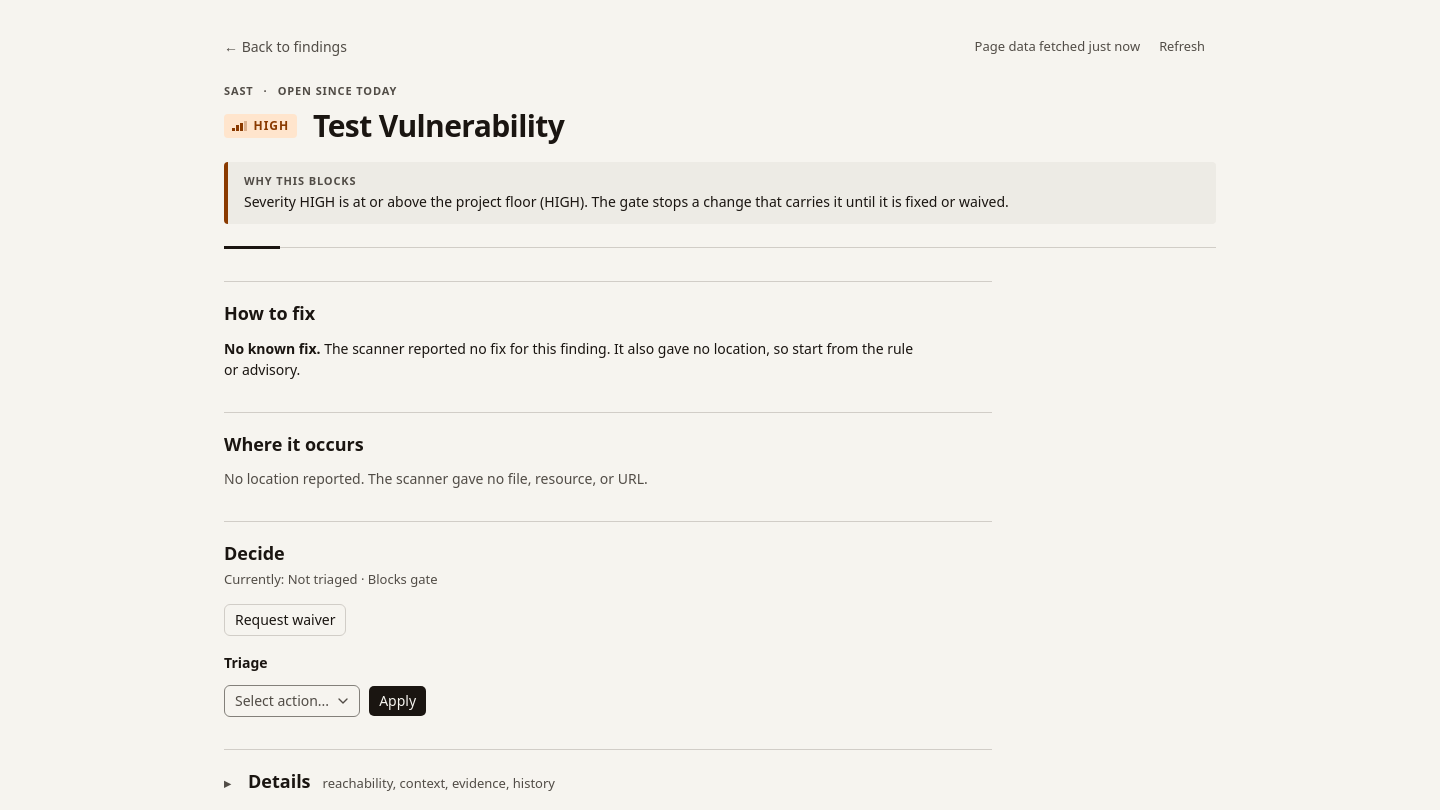
Scenario: FindingDetail rows without a value › drops the date rows instead of printing None
Expected: the heading "Test Vulnerability" is shown, x1=313 y1=109 x2=564 y2=142
Click the button "▸ Details reachability, context, evidence, history". click: (279, 781)
box: x1=224 y1=766 x2=992 y2=798
(page scrolled)
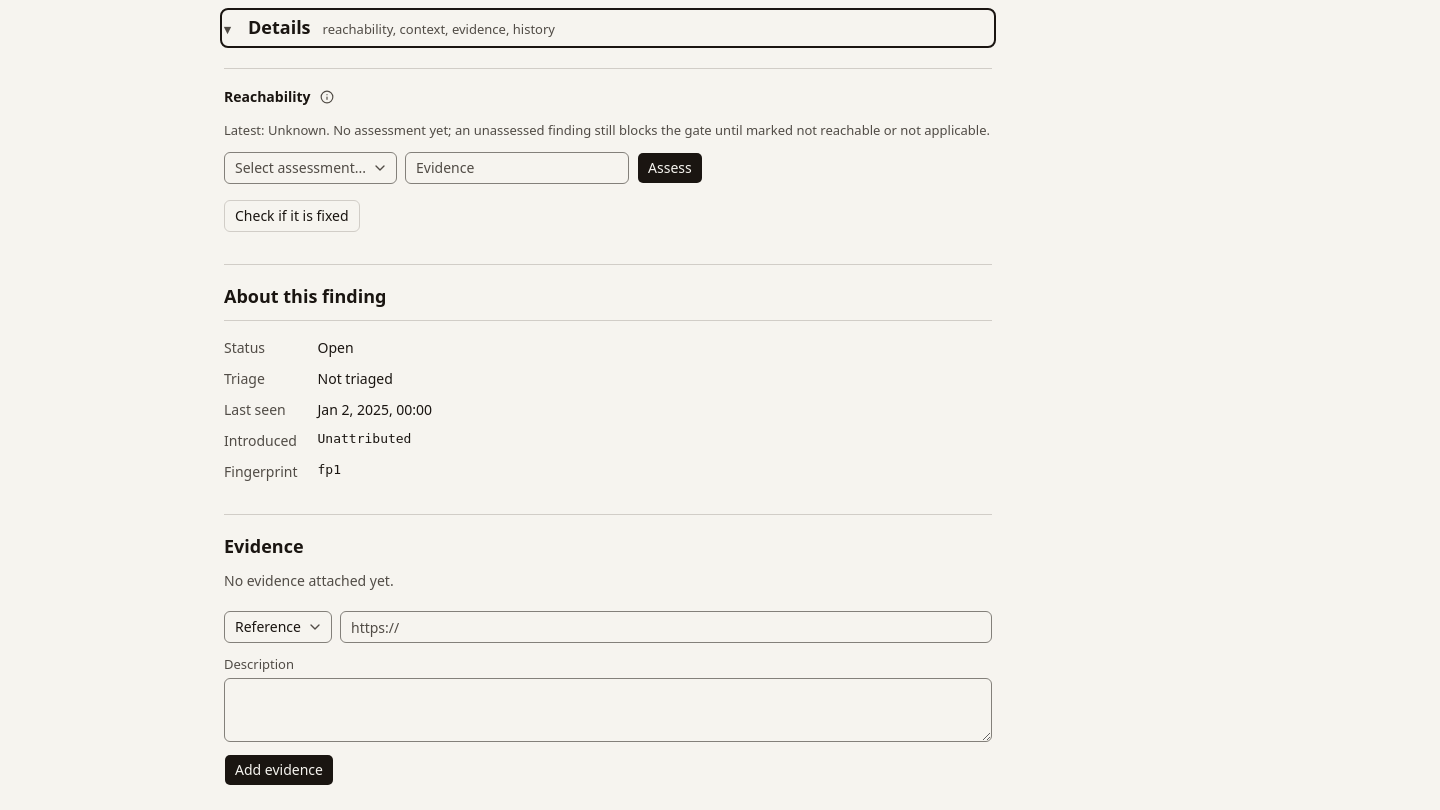
Now the text "Last seen" is shown, box x1=224 y1=400 x2=286 y2=419
